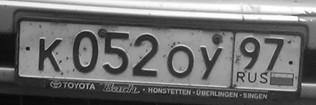license-plateSW: (15, 17, 304, 95)
